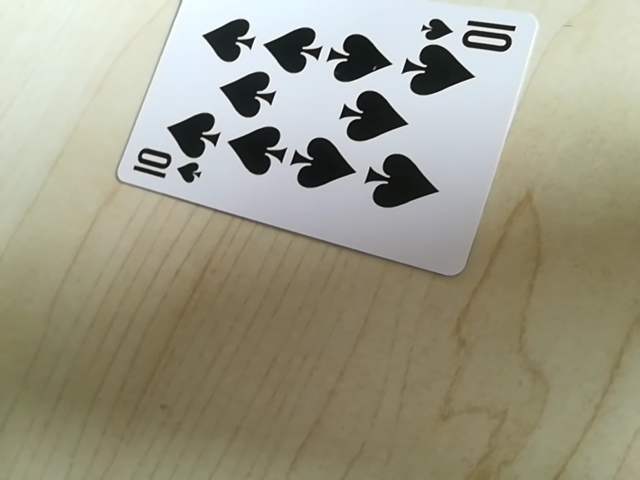ht 10: (415, 11, 523, 51), (125, 151, 205, 188)
